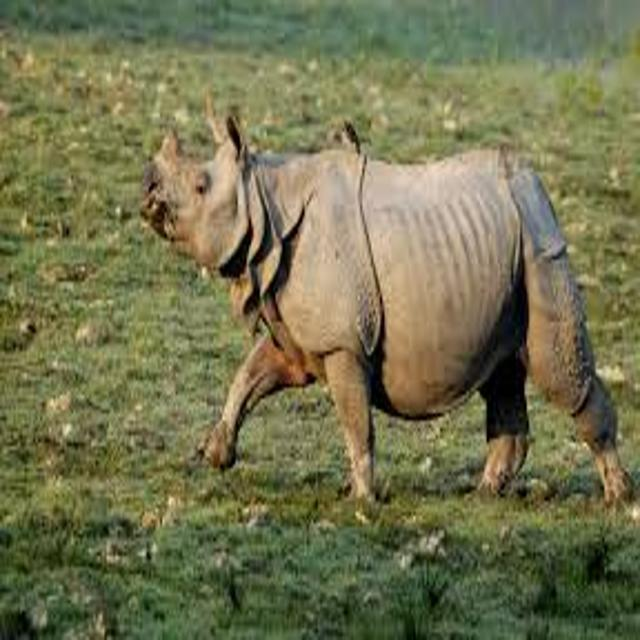Rinoceros: (126, 98, 640, 534)
